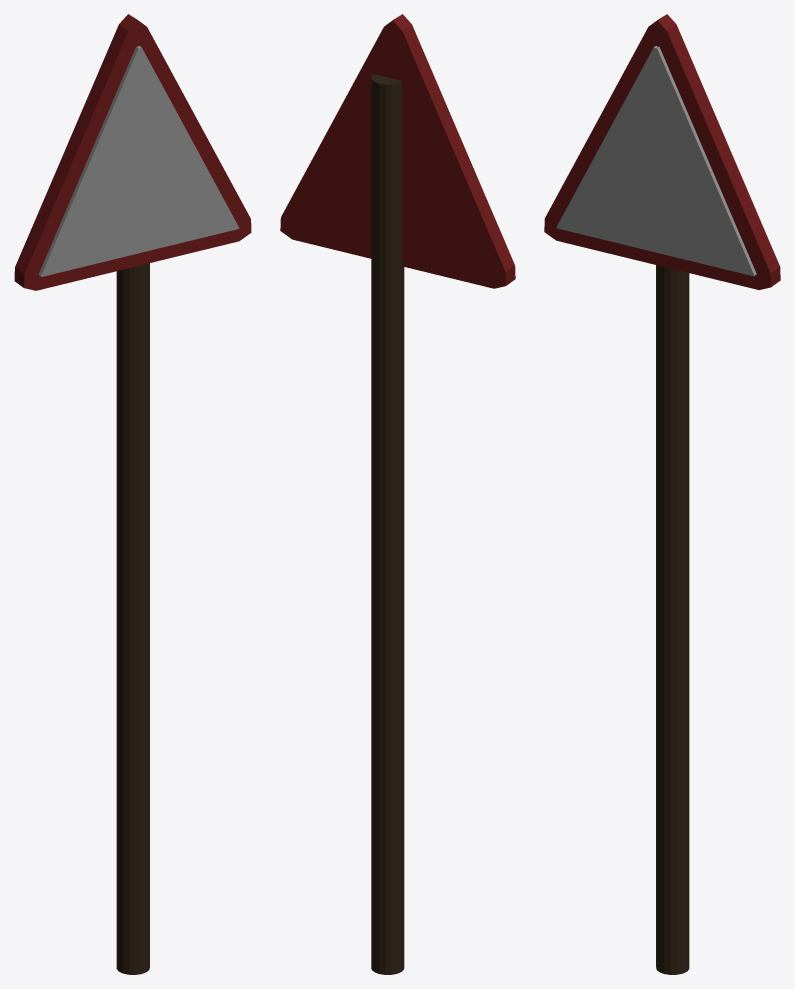
File: YieldSign.fbx
The picture shows the model from 3 angles, left to right: view 1: azimuth 30°, elevation 25°; view 2: azimuth 150°, elevation 25°; view 3: azimuth 330°, elevation 25°; orthographic projection.
Parts seen in each view (by area): view 1: Cylinder.002; view 2: Cylinder.002; view 3: Cylinder.002.
Part boxes in pixels (x1=…): Cylinder.002: x1=14, y1=14, x2=251, y2=974; Cylinder.002: x1=280, y1=14, x2=515, y2=974; Cylinder.002: x1=544, y1=14, x2=780, y2=974.
Bounding box in the file's own units: 204 × 819 × 32.02.
